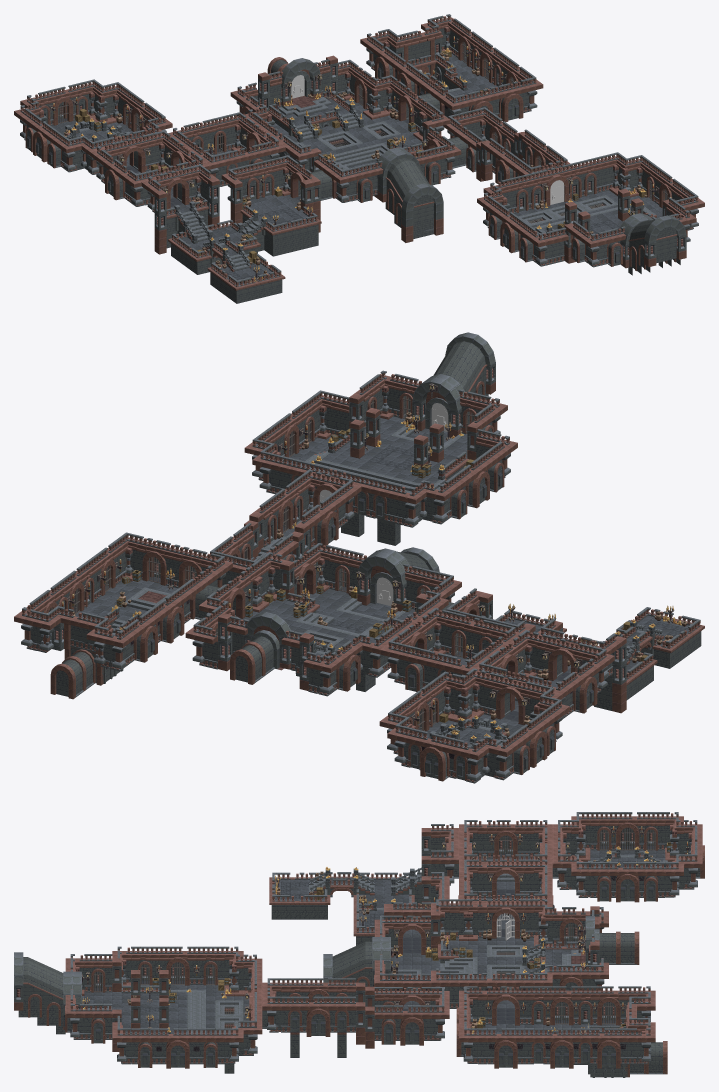
Rendered from _sample_level.fbx.
The picture shows the model from 3 angles, top to bottom: view 1: azimuth 30°, elevation 25°; view 2: azimuth 150°, elevation 25°; view 3: azimuth 270°, elevation 25°; orthographic projection. The views are drawn at different scales.
Visible parts, largest first — view 1: sample_level, sample_level_deco, sample_level_doors; view 2: sample_level, sample_level_deco, sample_level_doors; view 3: sample_level, sample_level_deco.
Part boxes in pixels (left/top/right/bottom): sample_level: left=14, top=14, right=704, bottom=303; sample_level_deco: left=49, top=36, right=675, bottom=282; sample_level_doors: left=291, top=69, right=564, bottom=204; sample_level: left=14, top=332, right=704, bottom=783; sample_level_deco: left=40, top=383, right=687, bottom=759; sample_level_doors: left=319, top=403, right=448, bottom=605; sample_level: left=14, top=812, right=704, bottom=1077; sample_level_deco: left=82, top=826, right=690, bottom=1065.
Bounding box in the file's own units: 904 × 203 × 1180.
